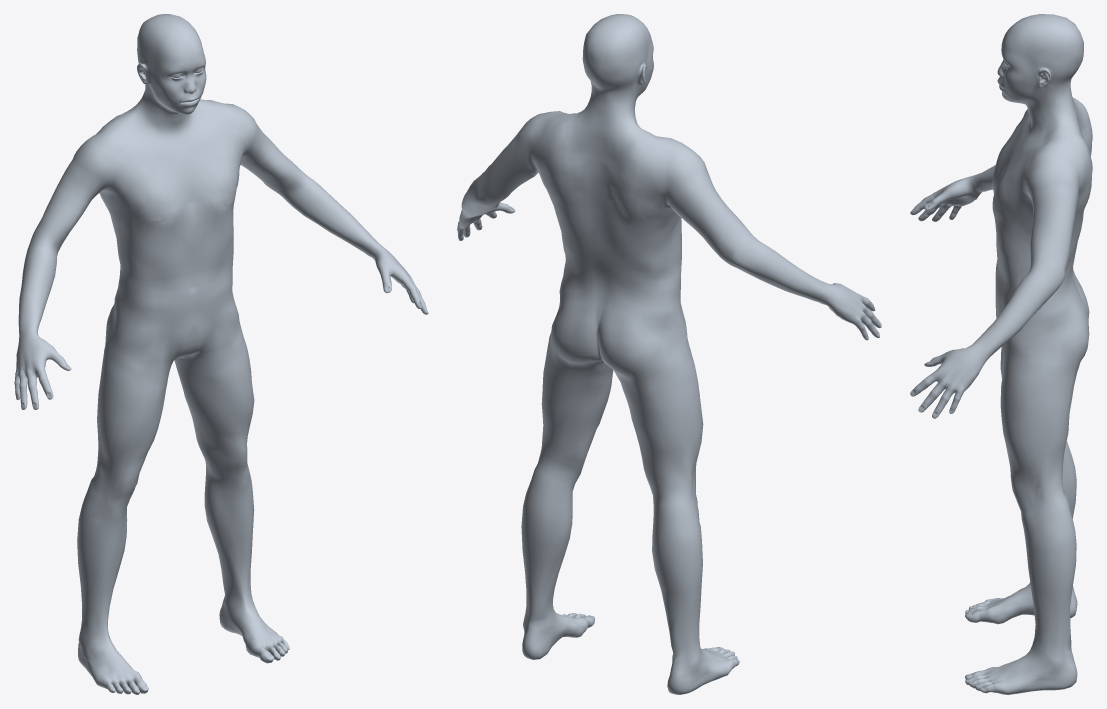
File: male-original.glb
3 views of the same model, side by side, from view 1: azimuth 30°, elevation 25°; view 2: azimuth 150°, elevation 25°; view 3: azimuth 270°, elevation 25° (orthographic). The views are drawn at different scales.
Parts seen in each view (by area): view 1: male-native; view 2: male-native; view 3: male-native.
Part boxes in pixels (x1,y1,x2,y2): male-native: [14, 14, 428, 694]; male-native: [457, 14, 881, 694]; male-native: [910, 14, 1092, 694].
Bounding box in the file's own units: 1.19 × 1.78 × 0.4635.
